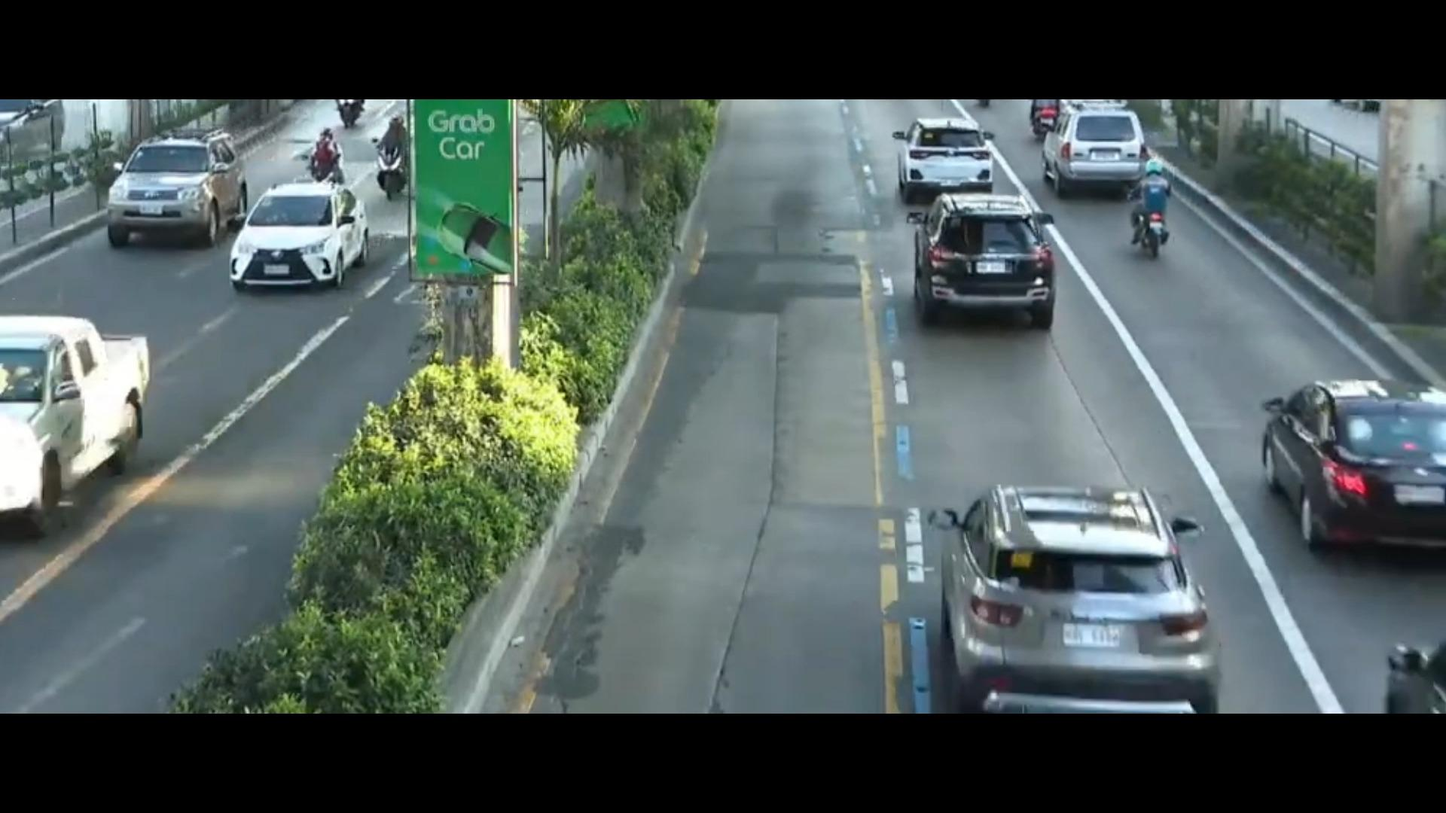Motorcycle: (1116, 159, 1193, 280), (304, 123, 357, 177)
Pickup: (0, 294, 184, 555)
SUV: (924, 465, 1240, 711), (899, 178, 1078, 342), (91, 116, 252, 256), (895, 93, 1007, 202)
Sedan: (1241, 344, 1446, 551), (218, 184, 377, 306)
Van: (1046, 97, 1171, 194)
